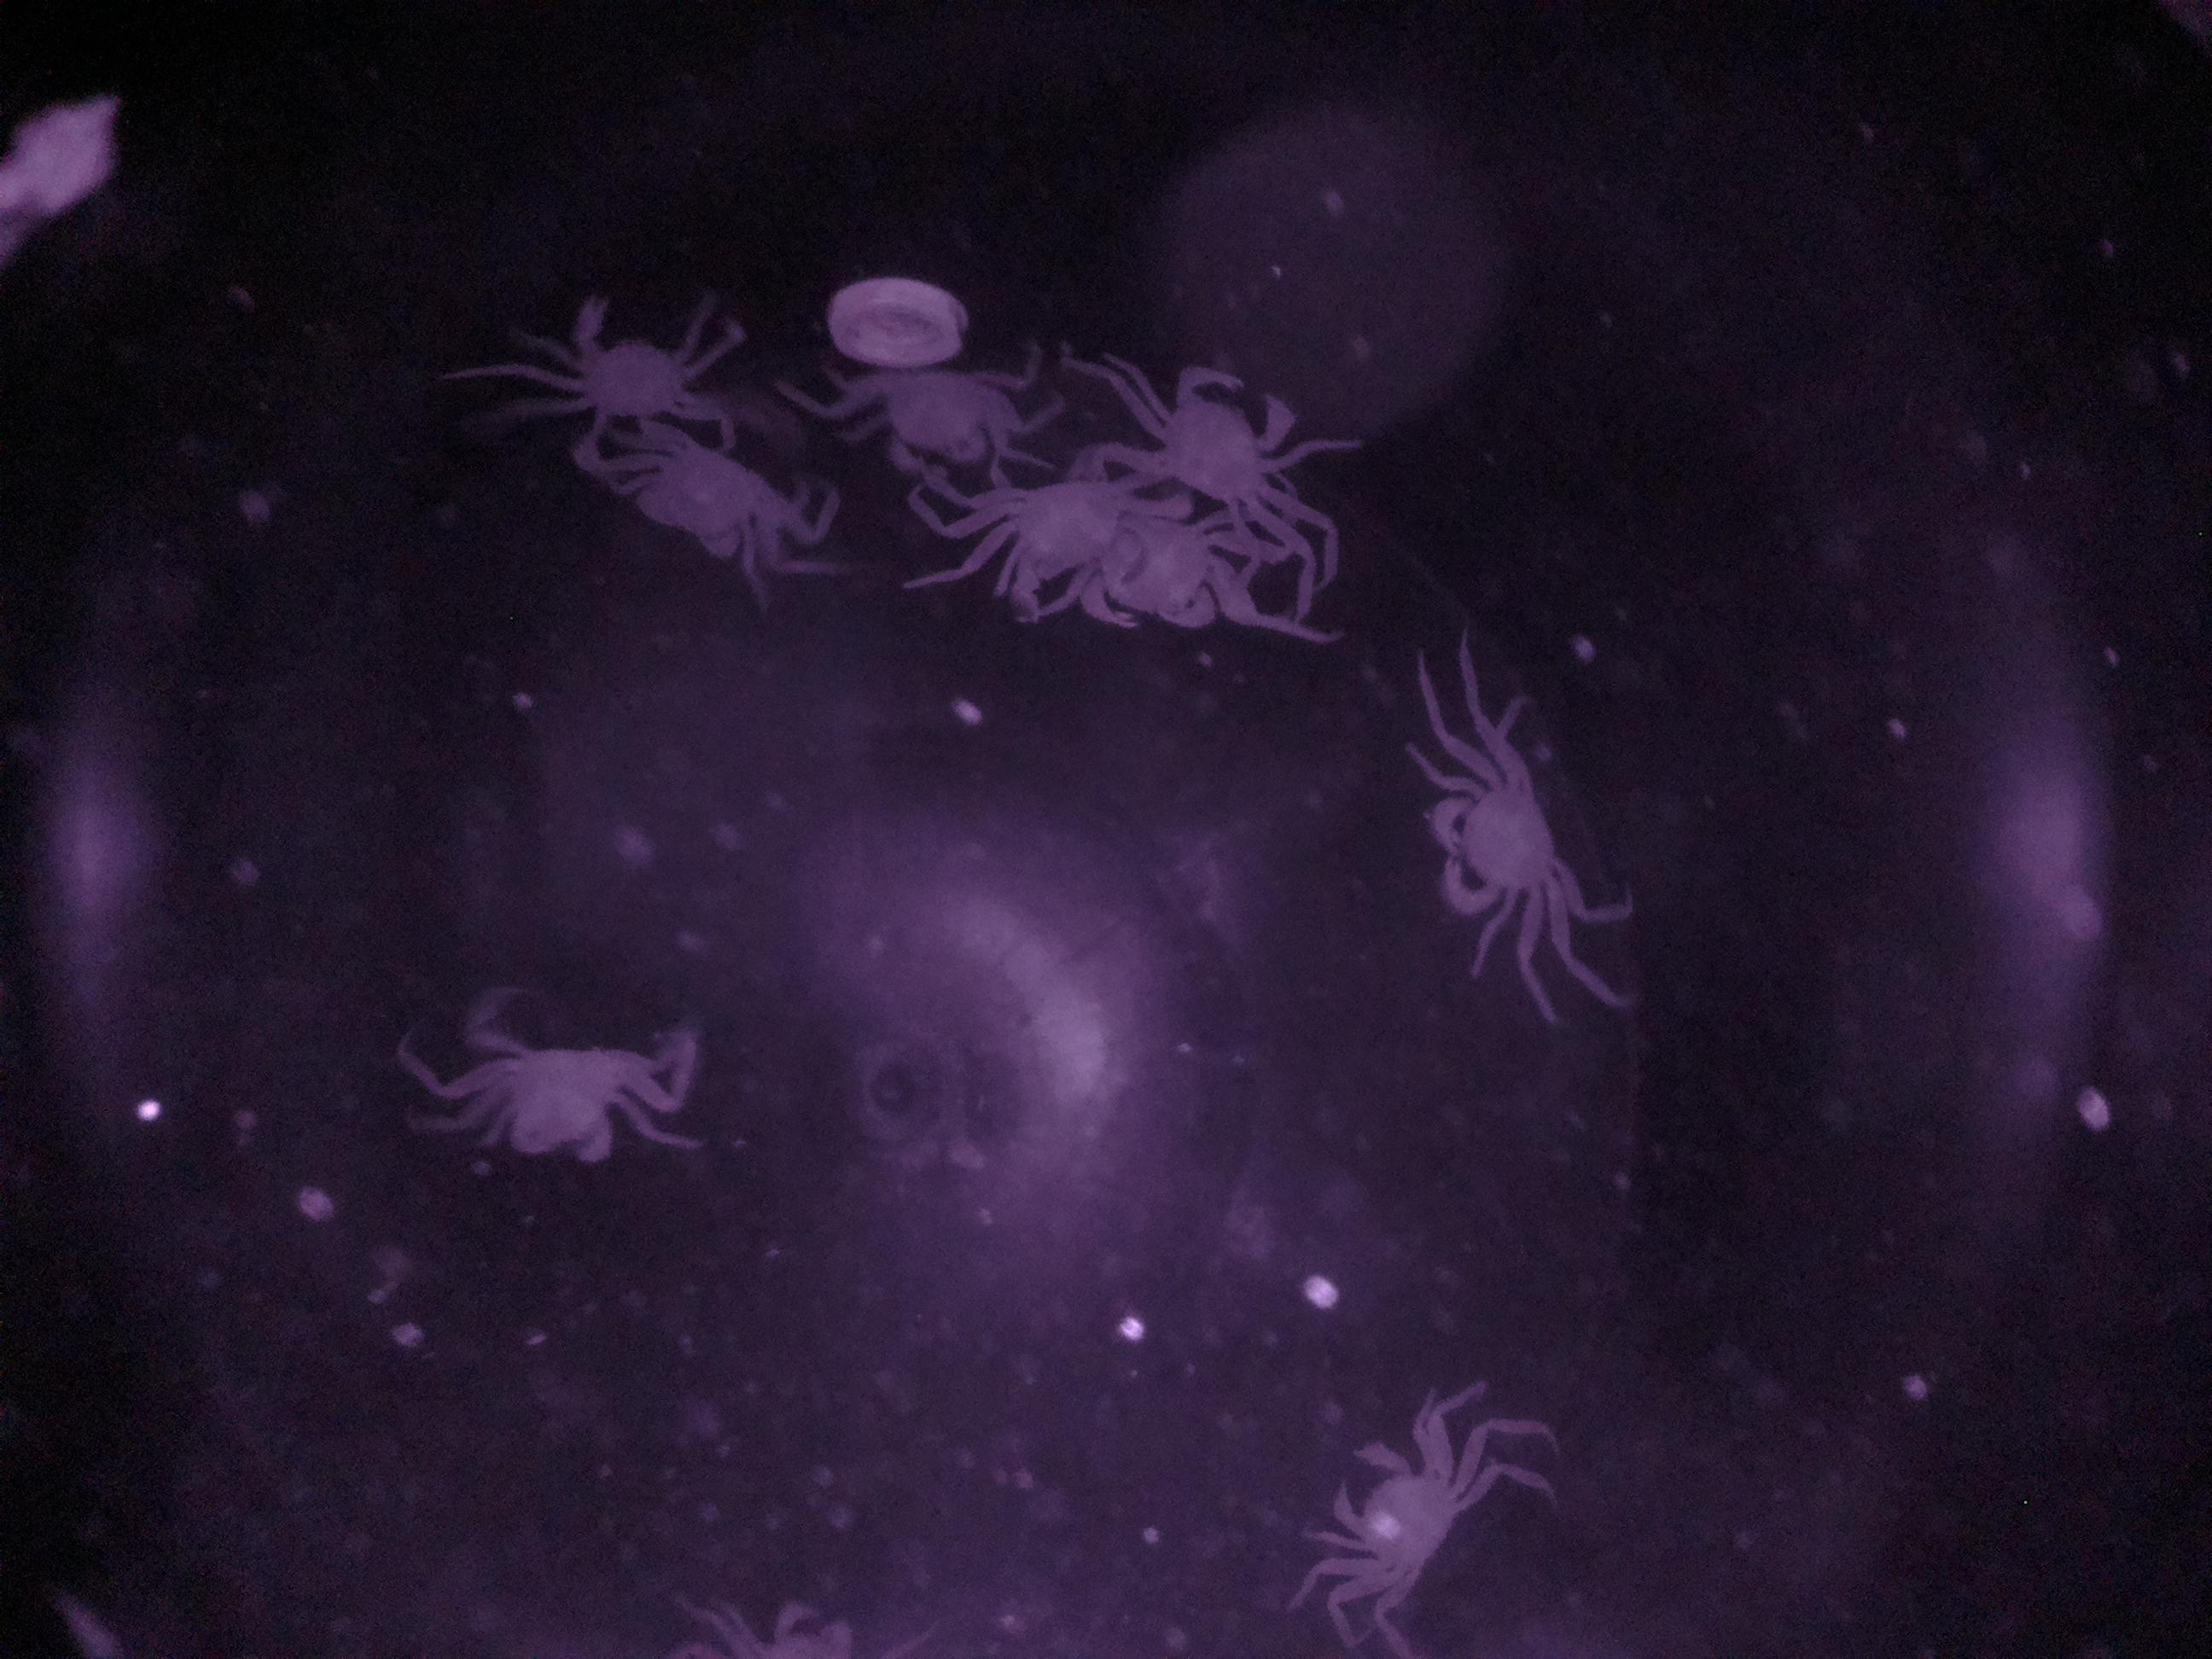Crab: (1409, 730, 1595, 955), (1308, 1413, 1501, 1601), (451, 1011, 655, 1187), (1143, 328, 1303, 537)
